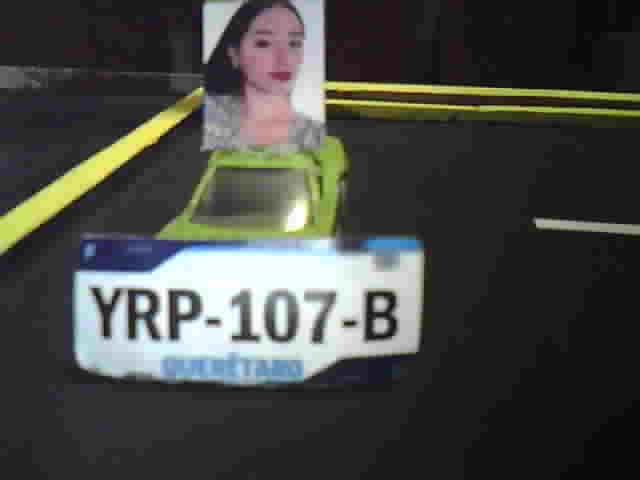PLACA: (69, 232, 425, 387)
ROSTRO: (205, 4, 323, 154)
